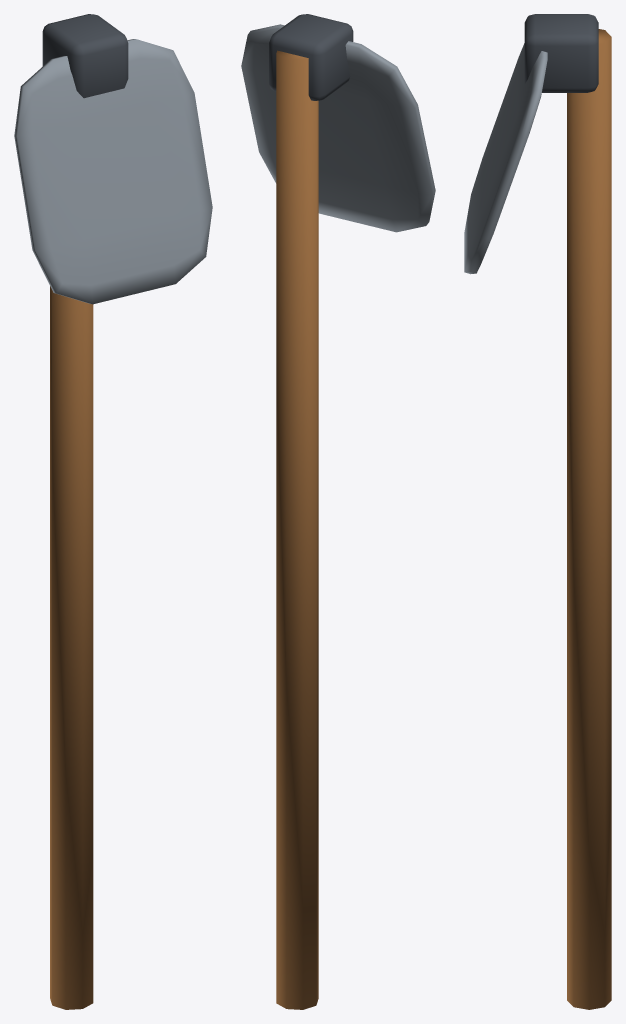
The model's file is weapon_pacul.glb.
The picture shows the model from 3 angles, left to right: view 1: azimuth 30°, elevation 25°; view 2: azimuth 150°, elevation 25°; view 3: azimuth 270°, elevation 25°; orthographic projection. The views are drawn at different scales.
Parts seen in each view (by area): view 1: pickup_pacul; view 2: pickup_pacul; view 3: pickup_pacul.
Boxes of the visible parts, box(x1,y1,x2,y2) form: pickup_pacul: box(14, 14, 212, 1009); pickup_pacul: box(241, 14, 435, 1009); pickup_pacul: box(464, 14, 611, 1009).
Bounding box in the file's own units: 0.22 × 1.17 × 0.159.
